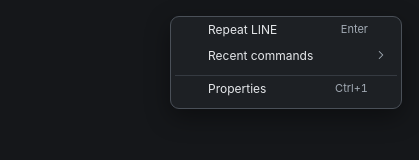
Scenario: CadPromptMenu kept inside the drawing › opens a list beside its row, to the left when the menu is at the right edge
Hover over the menu item "Recent commands" at [286, 59], box 175,47 -> 397,71
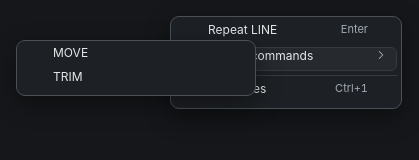
Check: the menu named "Recent commands" is shown, box 16,40 -> 256,96
